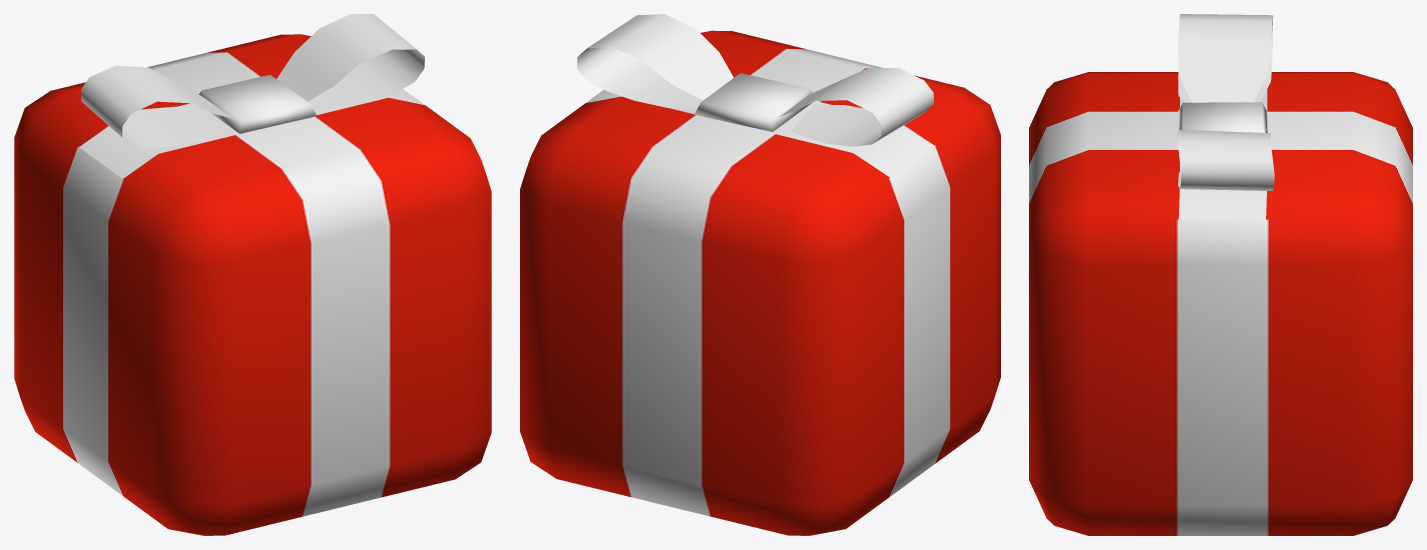
Rendered from red_gift.glb.
3 renders of one model, left to right at view 1: azimuth 30°, elevation 25°; view 2: azimuth 150°, elevation 25°; view 3: azimuth 270°, elevation 25°, orthographic.
Parts seen in each view (by area): view 1: Red_Gift; view 2: Red_Gift; view 3: Red_Gift.
Boxes of the visible parts, box(x1,y1,x2,y2) form: Red_Gift: box(14, 14, 491, 535); Red_Gift: box(520, 14, 1000, 535); Red_Gift: box(1029, 14, 1412, 535).
Size of the model in its own units: 0.4562 by 0.5279 by 0.4562.
Materials: 1 (1 with a texture image).
